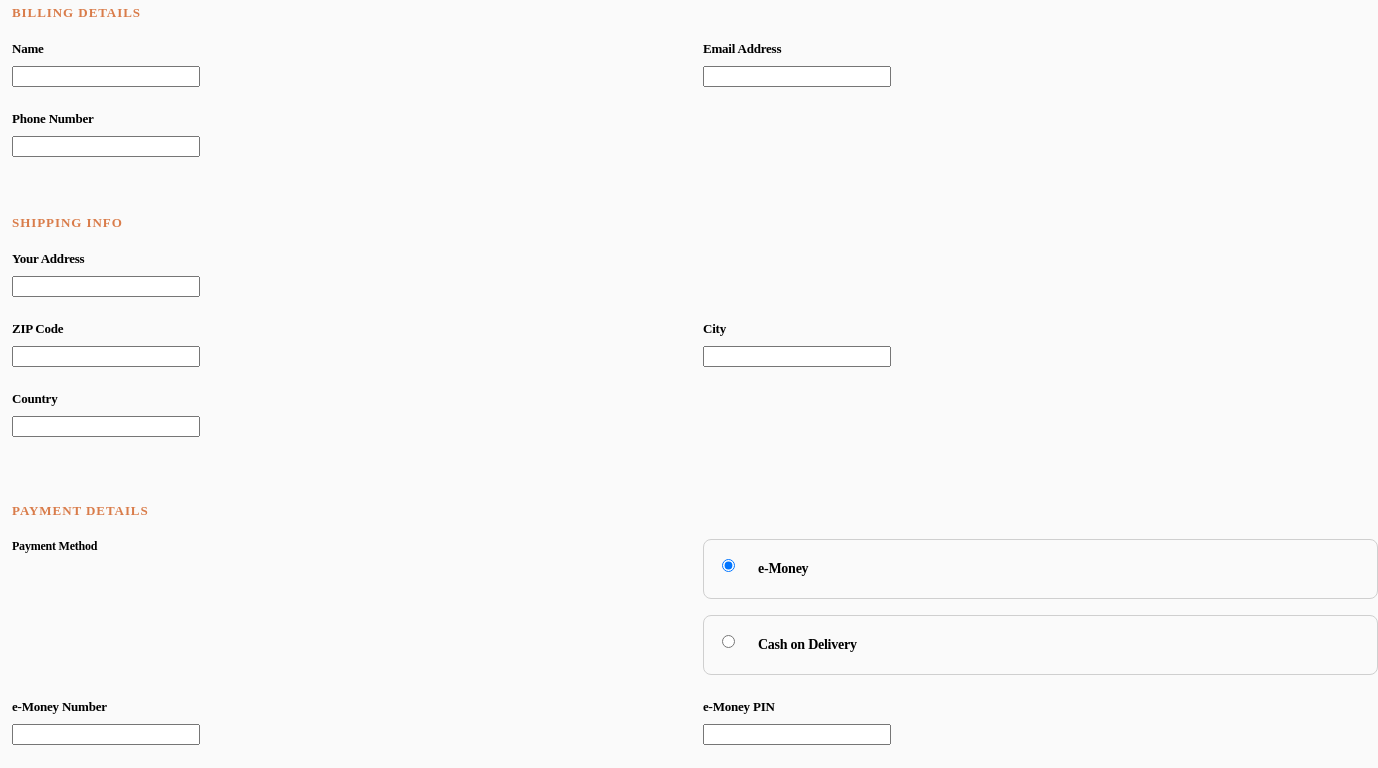
Test: BillingDetails › Interactions › Form validation › displays a required error message in Phone Number field when it was touched and then blurred leaving it with an empty value
Click the field labelled "Phone Number".
click(106, 146)  # box [12, 136, 200, 157]
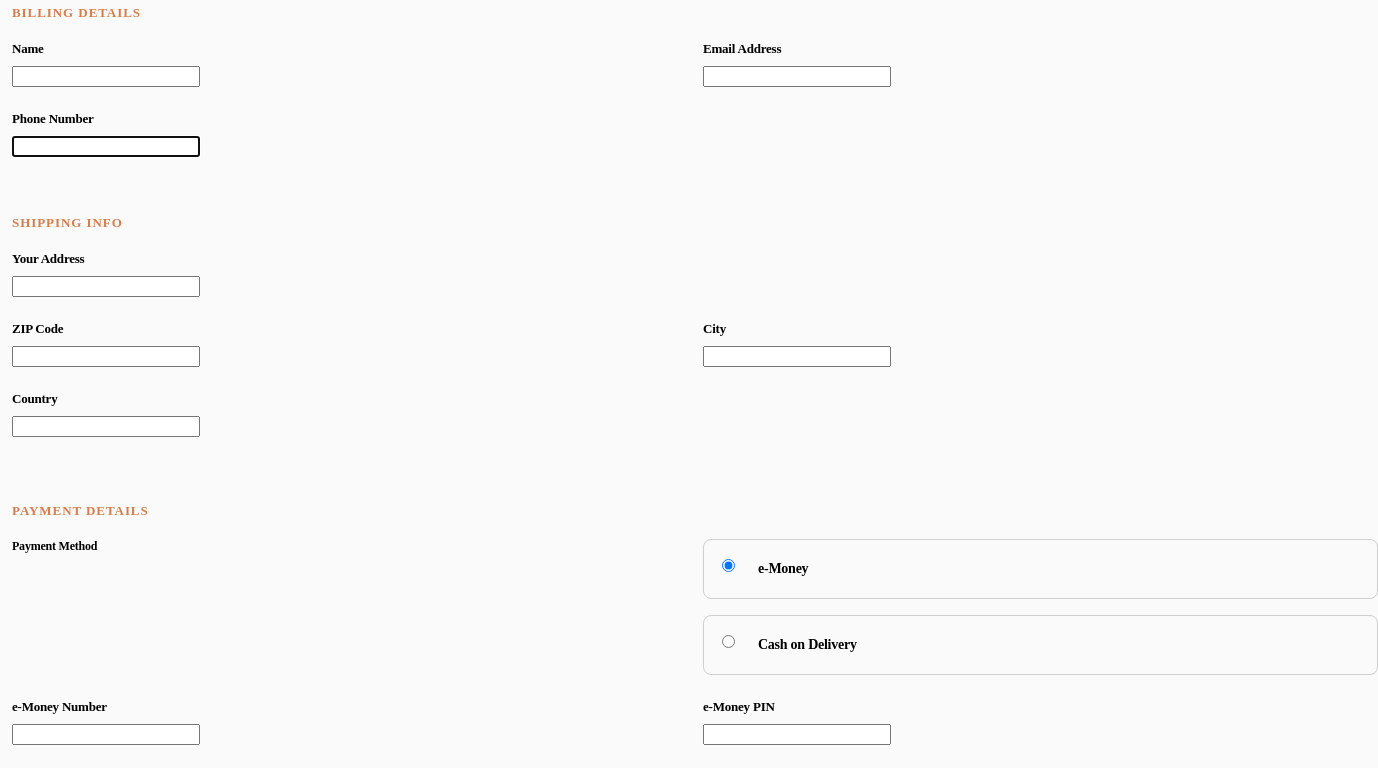
Click the element that starts with "Billing Details".
click(695, 384)  # box [12, 0, 1377, 767]
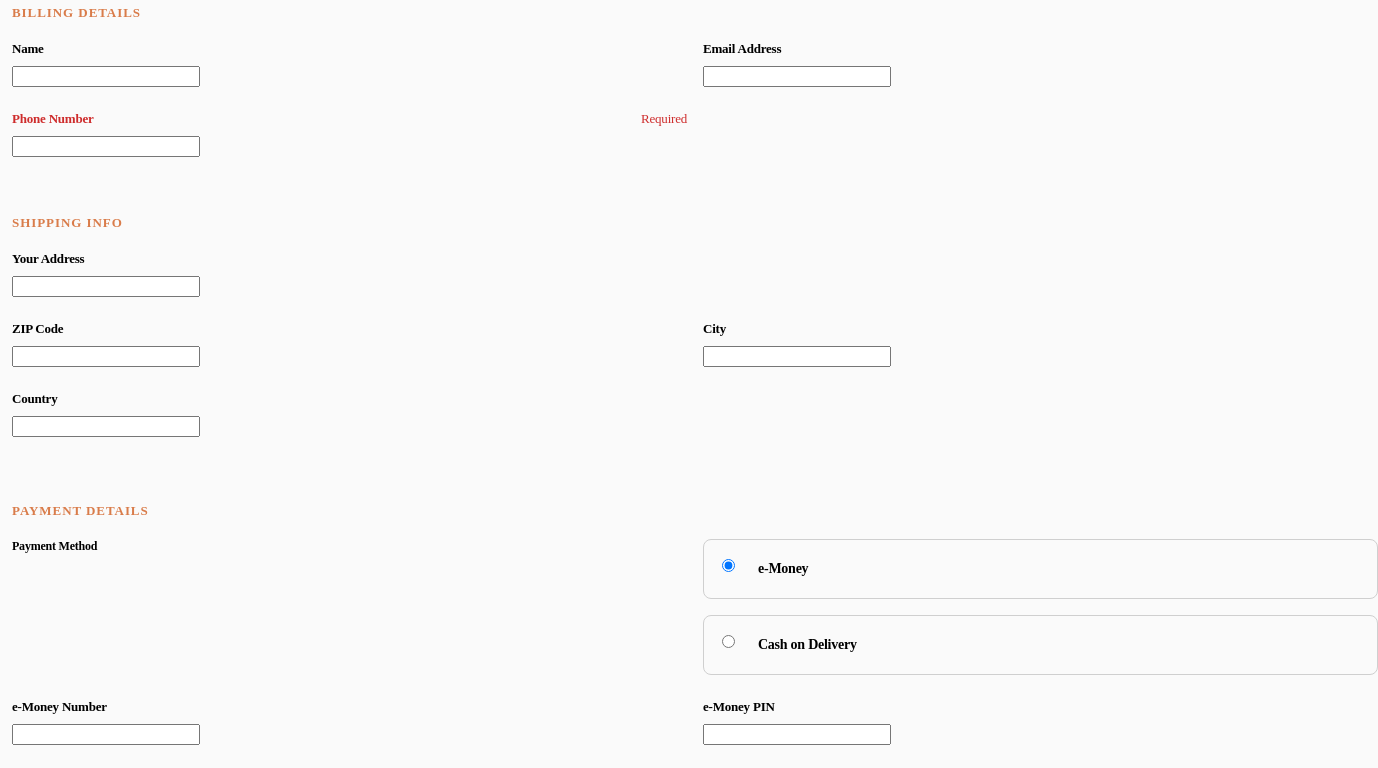
Check: the text "Required" is shown, box [641, 111, 687, 127]
